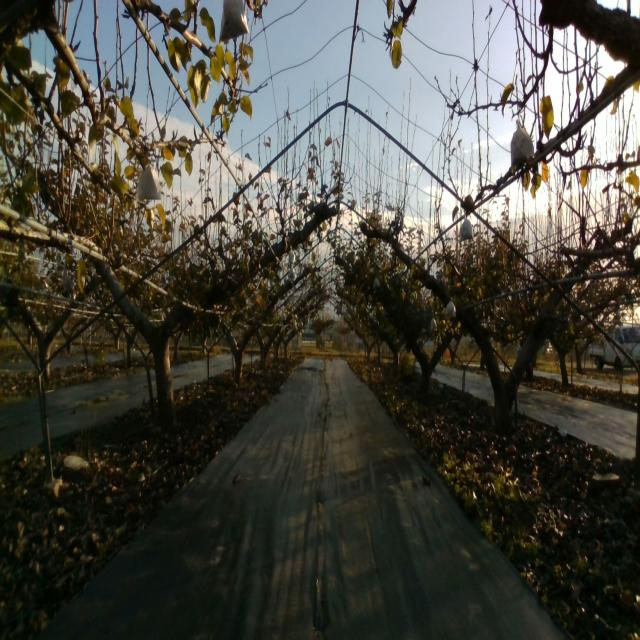pearbags: (218, 0, 250, 43), (510, 120, 536, 165), (136, 165, 162, 202), (460, 219, 474, 242), (444, 296, 457, 320)
